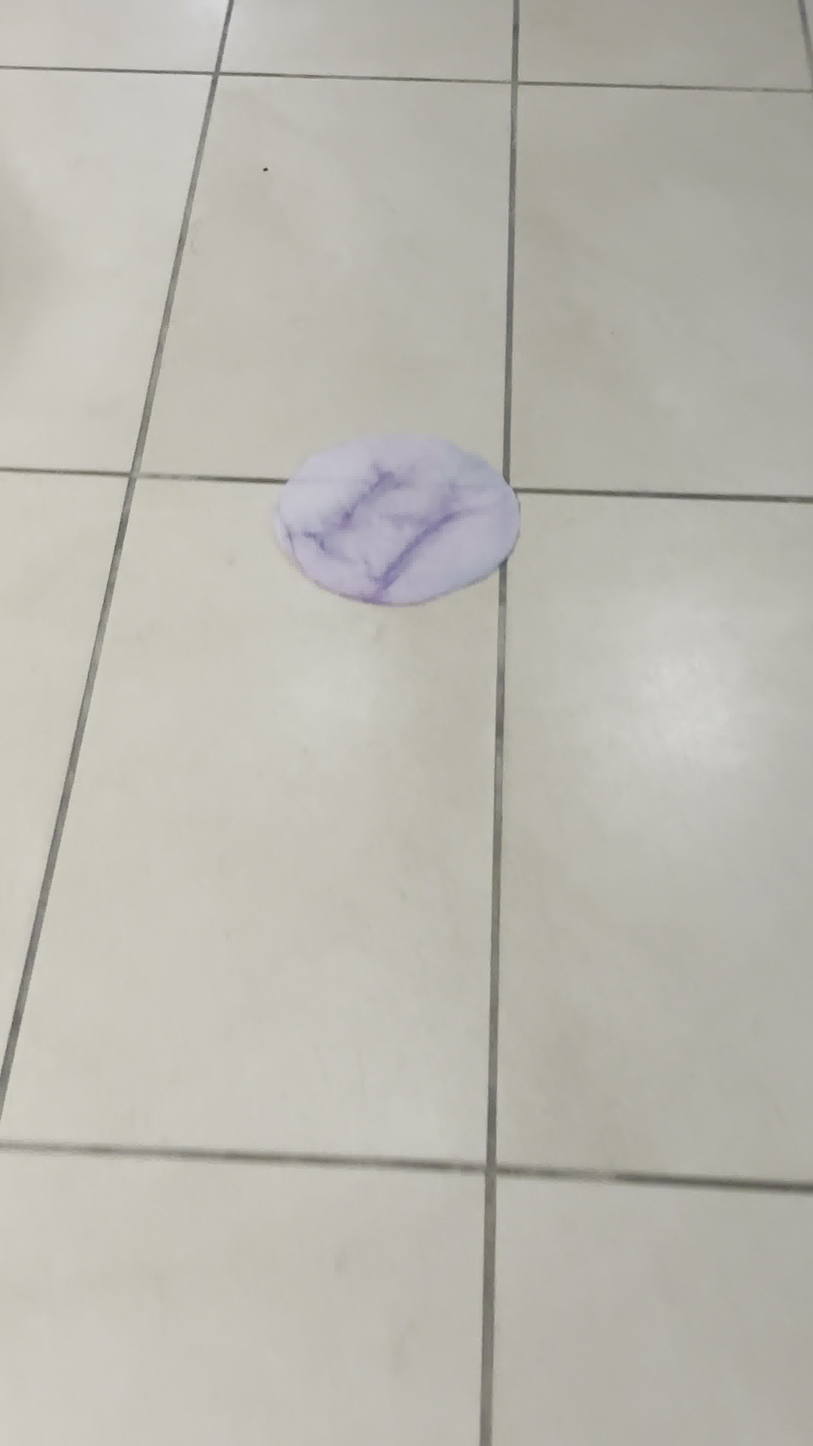Target: (263, 433, 521, 605)
